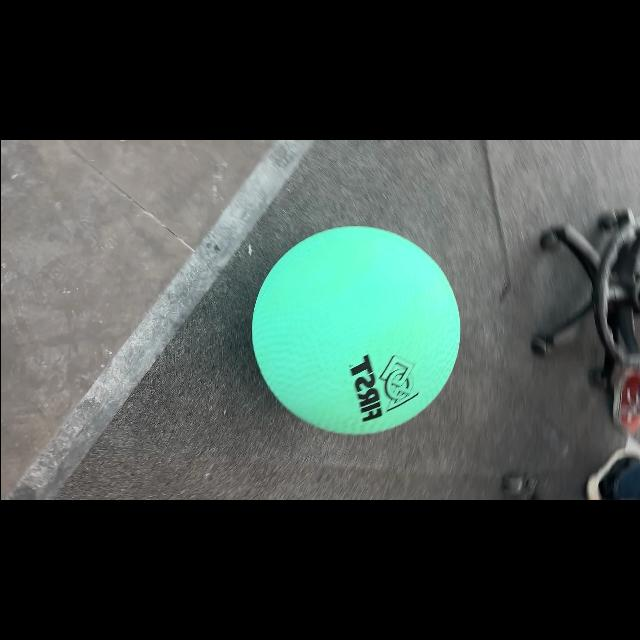ALGAE: (250, 226, 462, 437)
